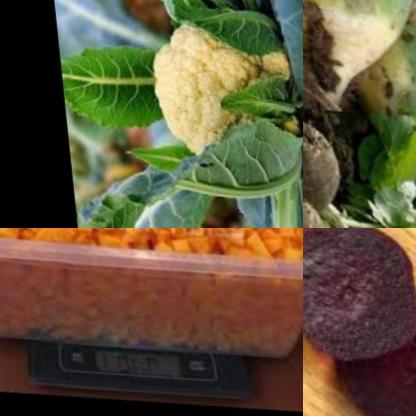beet: (303, 228, 416, 370), (326, 301, 416, 416)
cayliflower: (130, 0, 301, 167)
pumpkin: (0, 228, 303, 267)
redka: (303, 0, 416, 107), (349, 14, 416, 118), (303, 115, 344, 213)
